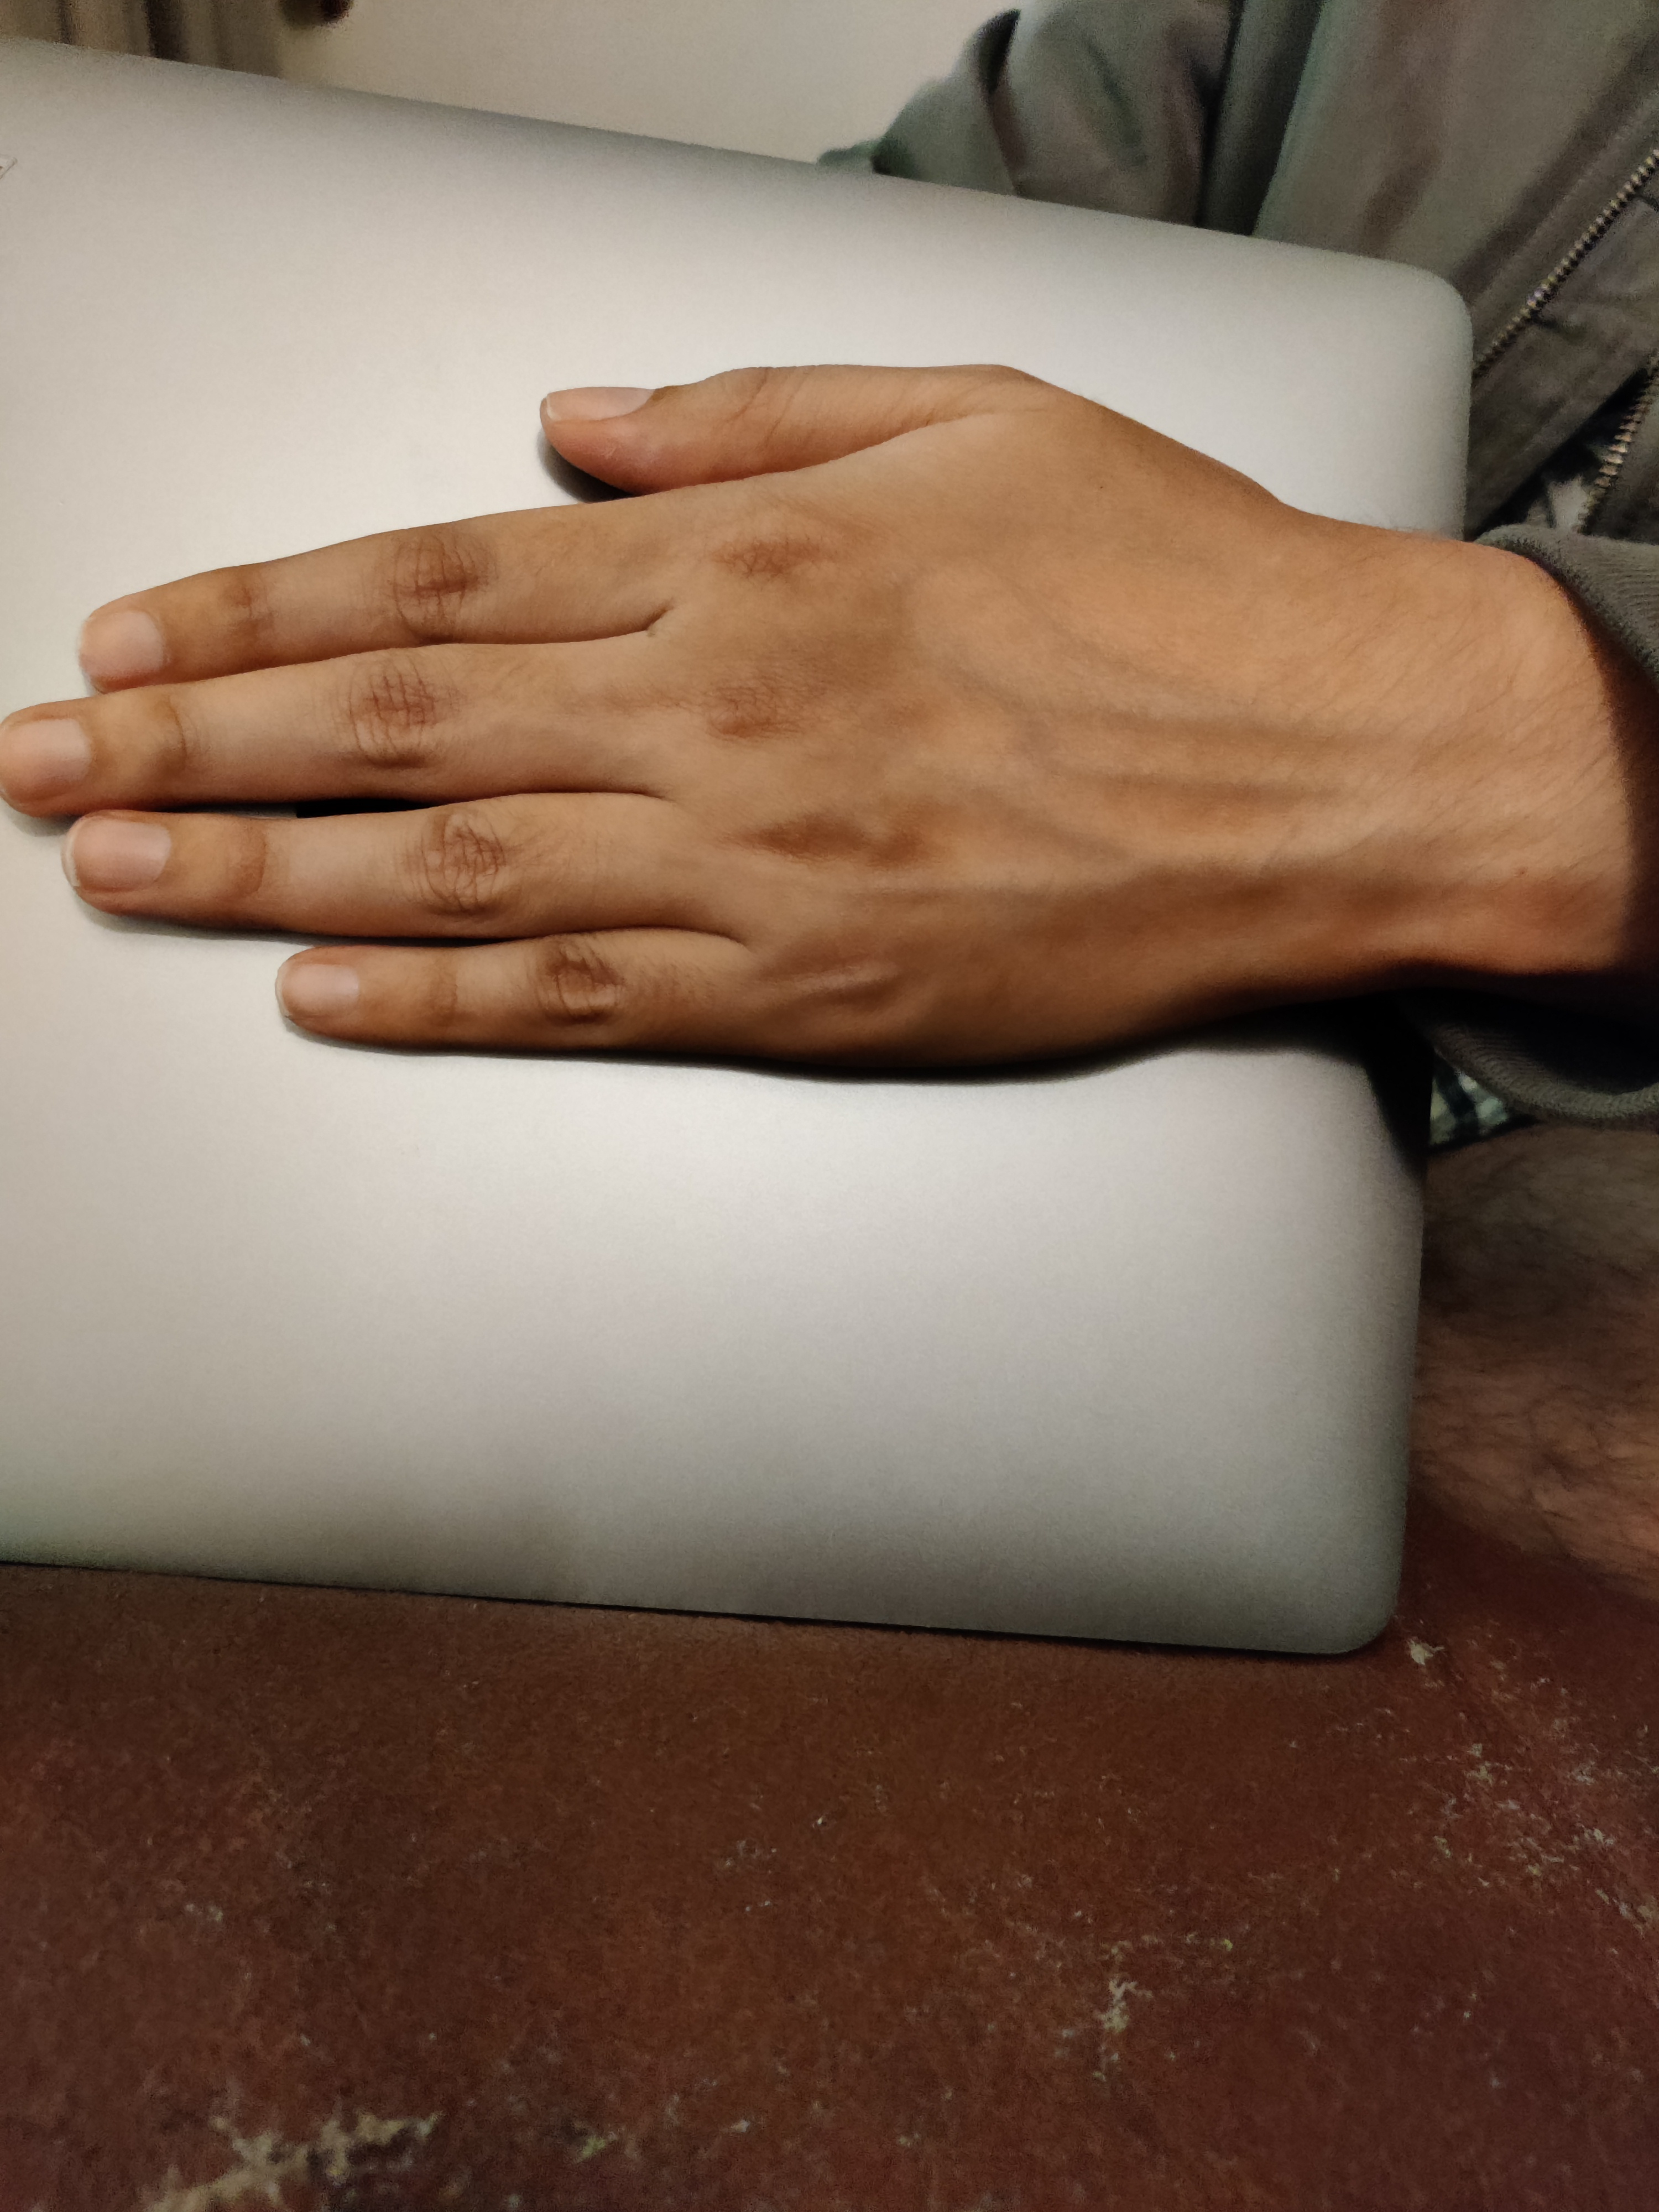right: (12, 212, 1537, 1334)
